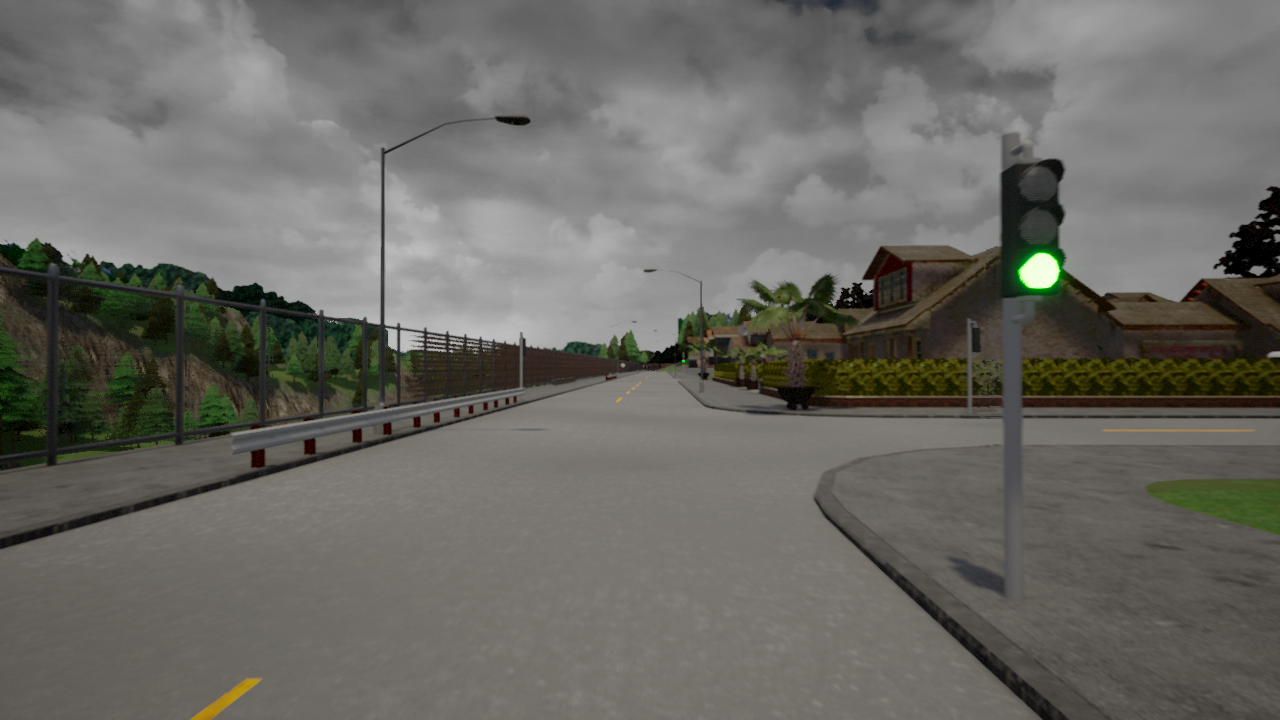green: (999, 156, 1068, 301)
